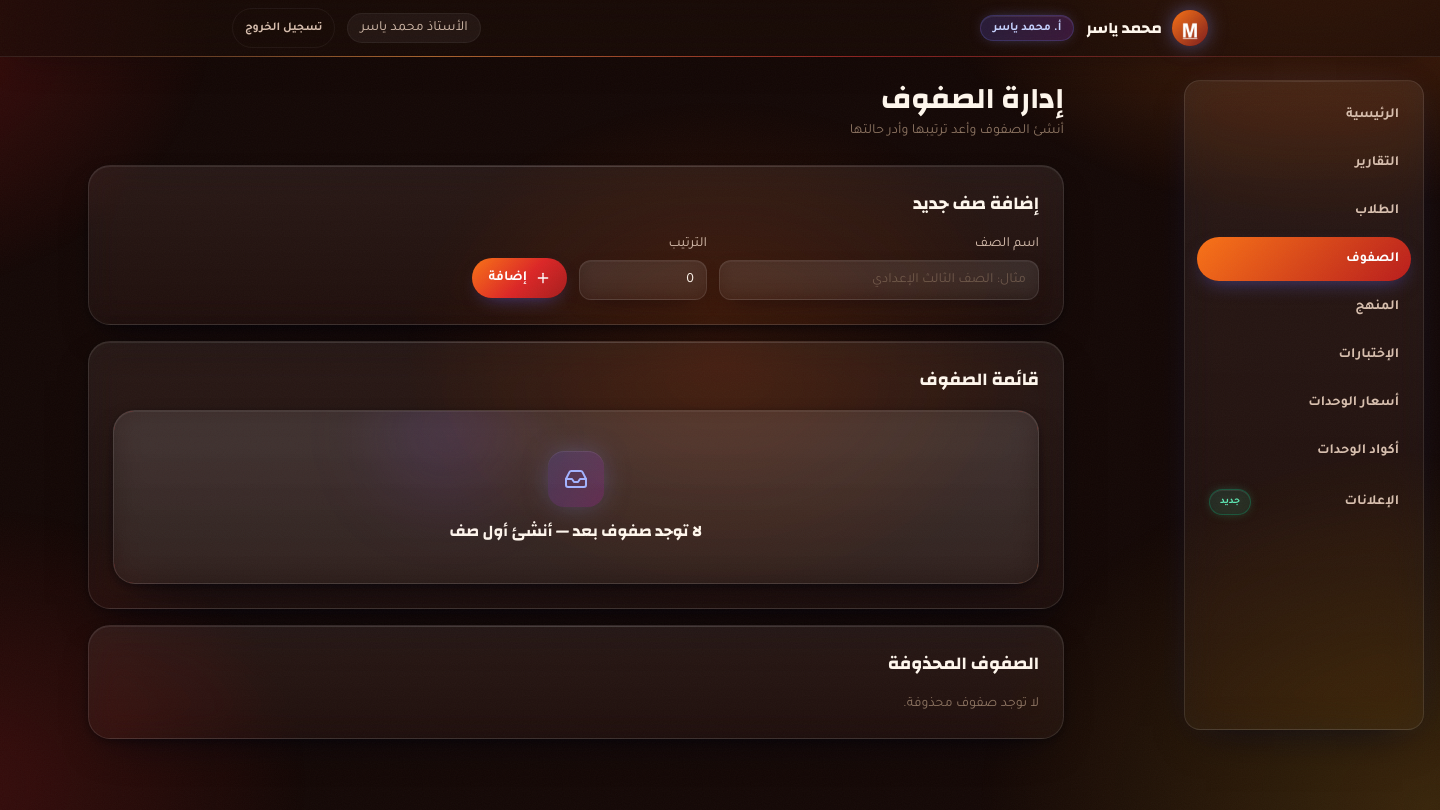
it: GradesPage › creates a grade and adds the row to the list
Type "الصف الخامس" into the field labelled "اسم الصف".
click(879, 280); type("الصف الخامس")  # box [719,260,1039,300]
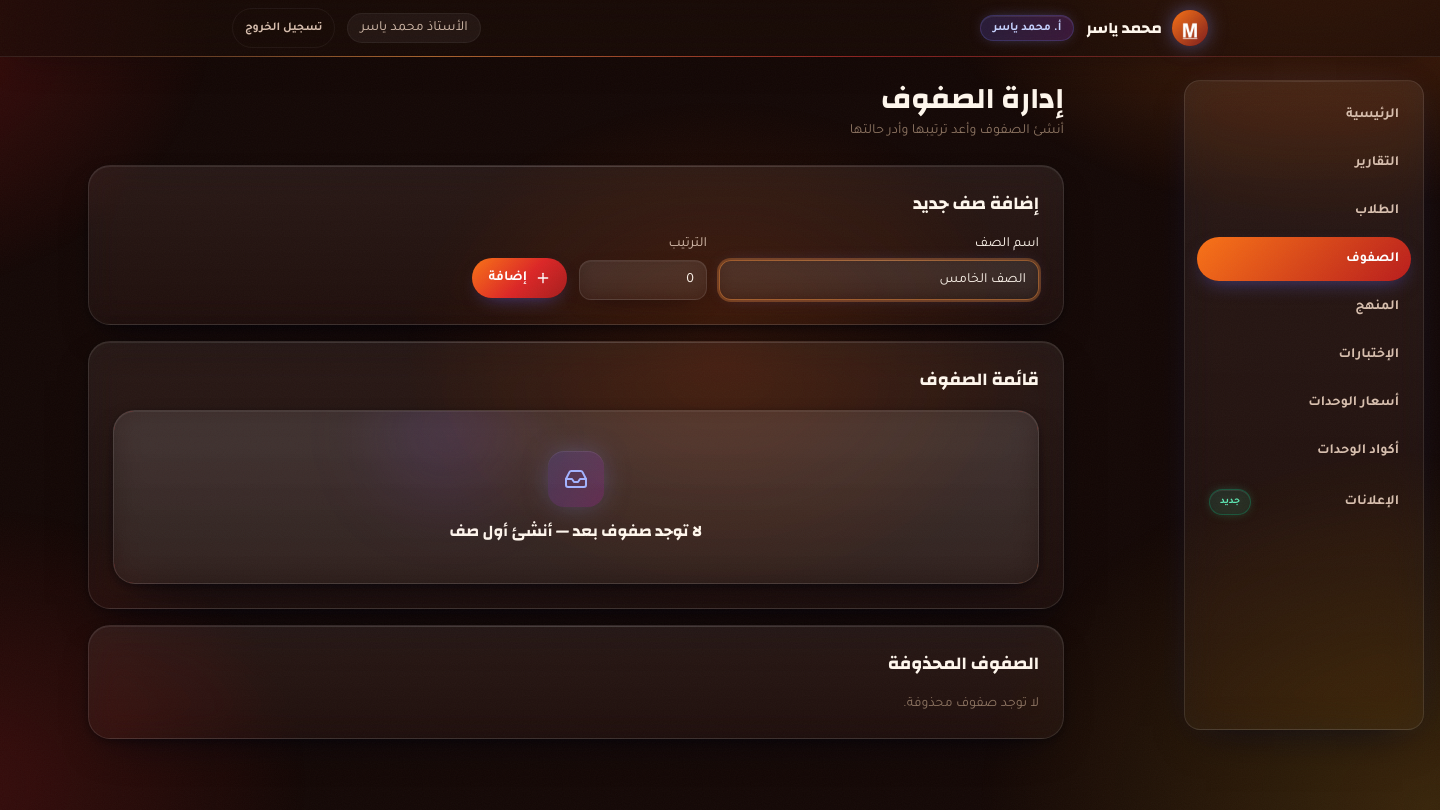
Click the button "إضافة".
click(520, 278)  # box [472,258,567,298]
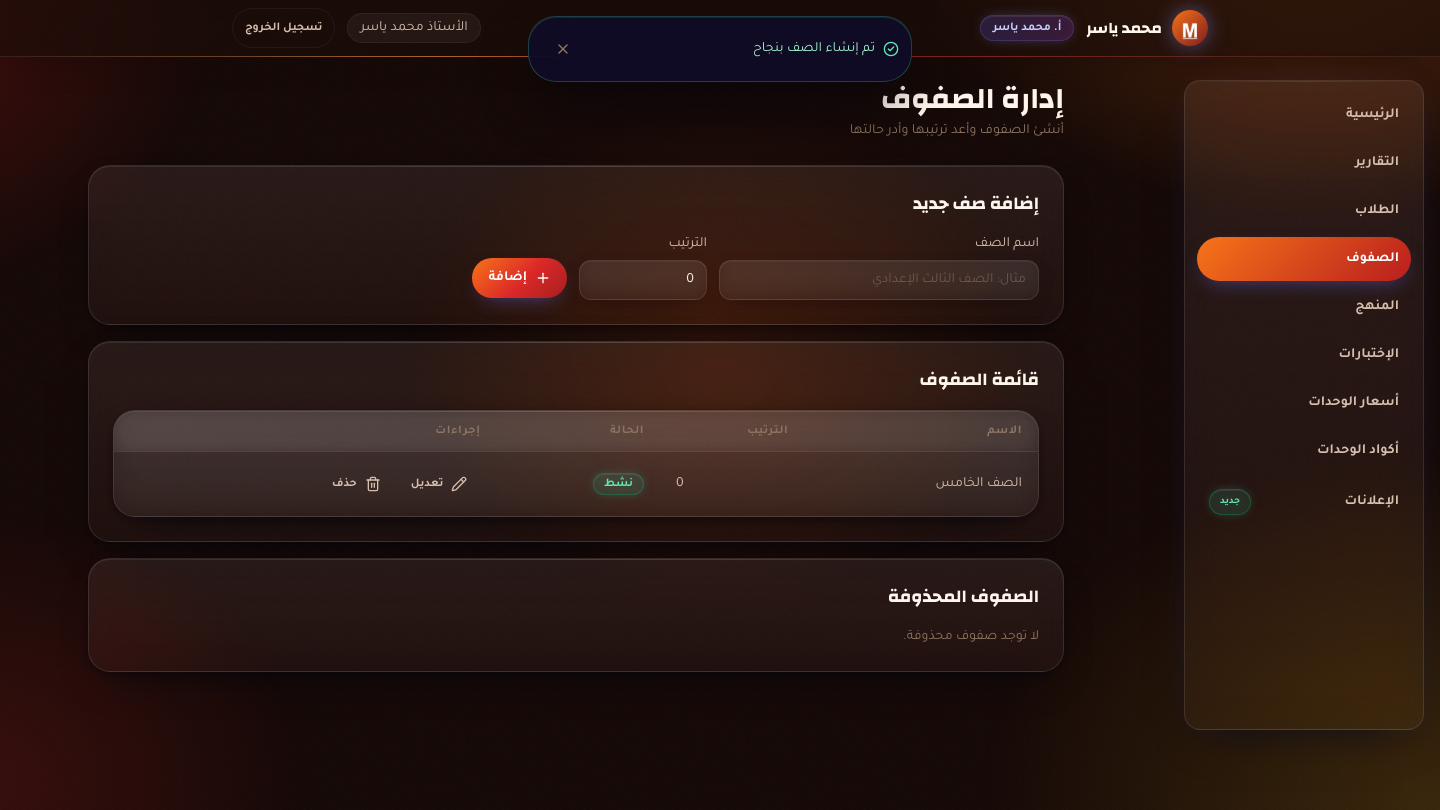
Expected: the text "تم إنشاء الصف بنجاح" is shown, [753,42,875,56]
Expected: the text "الصف الخامس" is shown, [804,452,1038,516]
Expected: the field labelled "اسم الصف" is empty, [719,260,1039,300]
